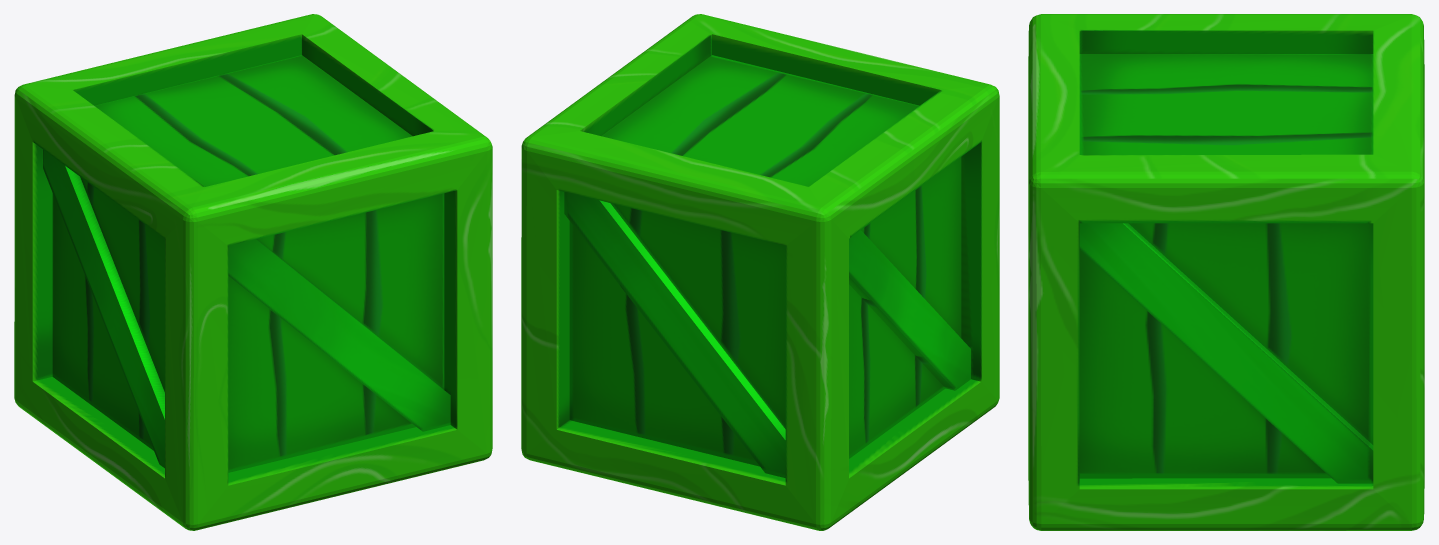
File: kocka zelena1.fbx
The picture shows the model from 3 angles, left to right: view 1: azimuth 30°, elevation 25°; view 2: azimuth 150°, elevation 25°; view 3: azimuth 270°, elevation 25°; orthographic projection. The views are drawn at different scales.
Visible parts, largest first — view 1: box_ram_2.008; view 2: box_ram_2.008; view 3: box_ram_2.008.
Part boxes in pixels (box(x1,y1,x2,y2)): box_ram_2.008: box(14, 14, 492, 530); box_ram_2.008: box(521, 14, 999, 530); box_ram_2.008: box(1028, 14, 1424, 530).
Bounding box in the file's own units: 194 × 194 × 194.
Materials: 1 (1 with a texture image).
